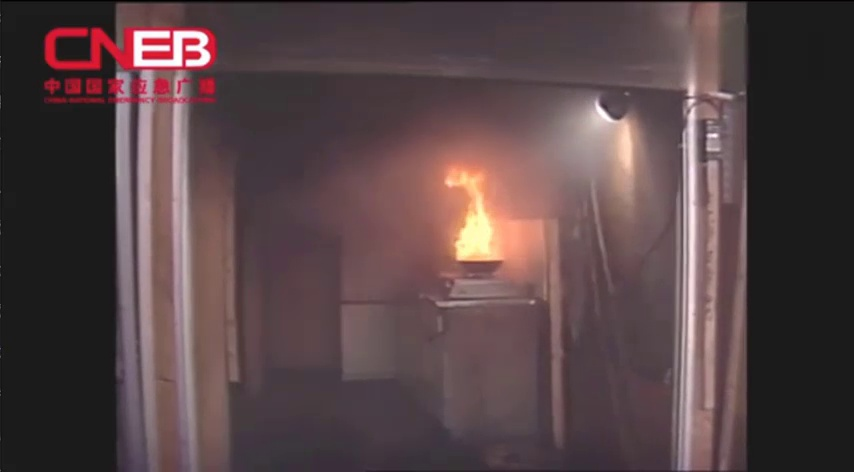fire: (432, 156, 523, 273)
